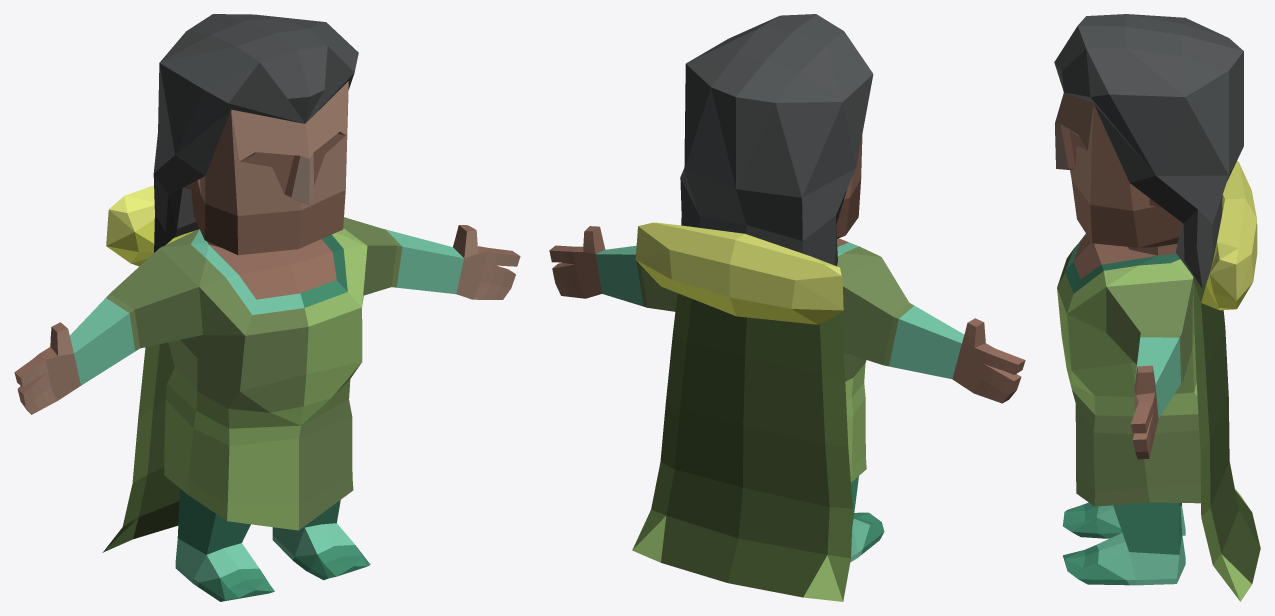
Rendered from enfj.glb.
3 renders of one model, left to right at view 1: azimuth 30°, elevation 25°; view 2: azimuth 150°, elevation 25°; view 3: azimuth 270°, elevation 25°, orthographic. The views are drawn at different scales.
Parts seen in each view (by area): view 1: enfj; view 2: enfj; view 3: enfj.
Part boxes in pixels (x1,y1,x2,y2): enfj: (14, 14, 520, 601); enfj: (549, 14, 1025, 601); enfj: (1054, 14, 1260, 601).
Bounding box in the file's own units: 10.58 × 10.88 × 3.88.
2 materials, 2 textured.
